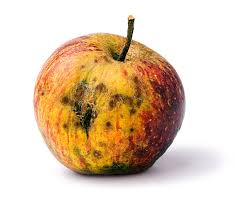damaged_apple: (35, 34, 189, 176)
